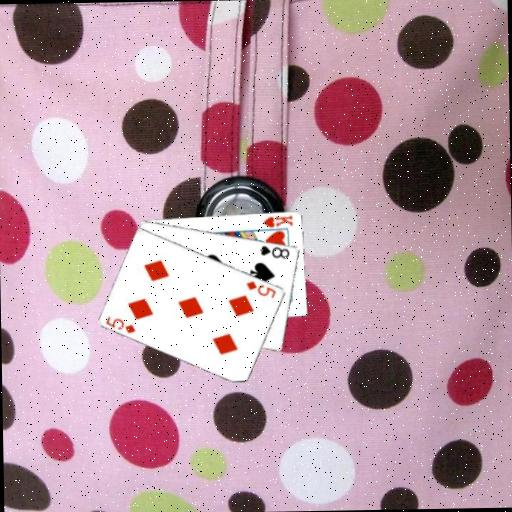5D: (244, 278, 278, 301), (103, 313, 137, 336)
8S: (257, 242, 292, 261)
KH: (260, 212, 294, 229)
